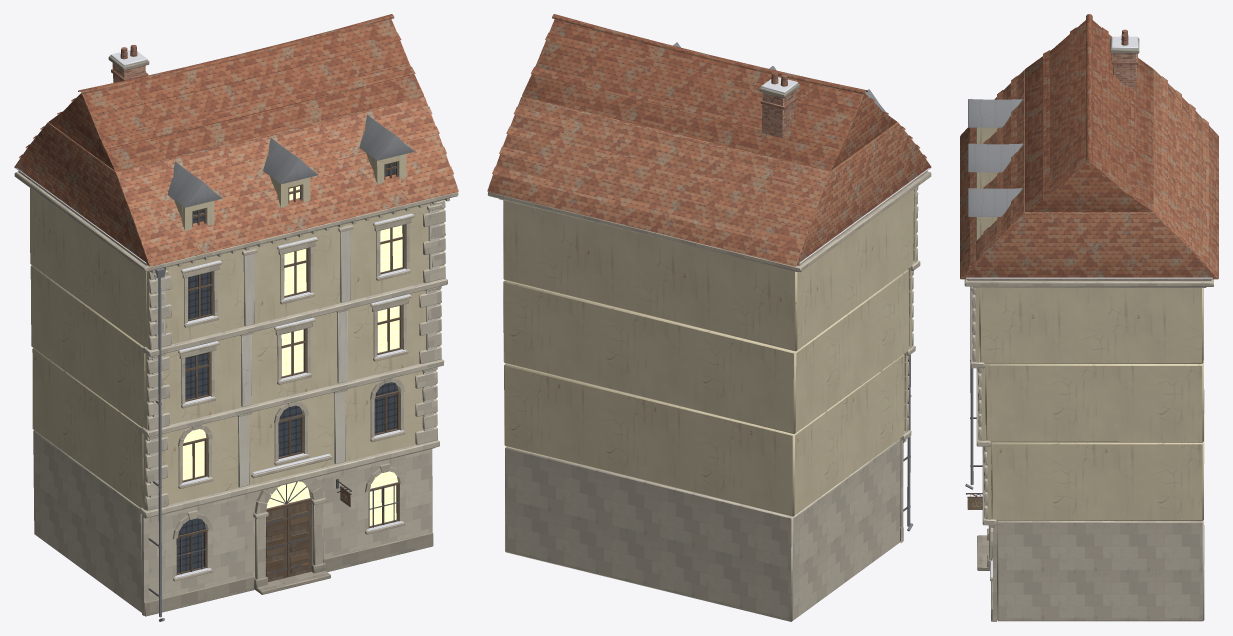
Rendered from tenement_c.glb.
The picture shows the model from 3 angles, left to right: view 1: azimuth 30°, elevation 25°; view 2: azimuth 150°, elevation 25°; view 3: azimuth 270°, elevation 25°; orthographic projection. The views are drawn at different scales.
Parts seen in each view (by area): view 1: tenement_c; view 2: tenement_c; view 3: tenement_c.
Part boxes in pixels (x1=…): tenement_c: x1=14, y1=14, x2=458, y2=621; tenement_c: x1=487, y1=14, x2=931, y2=621; tenement_c: x1=960, y1=14, x2=1218, y2=621.
Size of what is drawn, in the model's own units: 13.08 by 20.09 by 9.82.
Materials: 17 (17 with a texture image).
